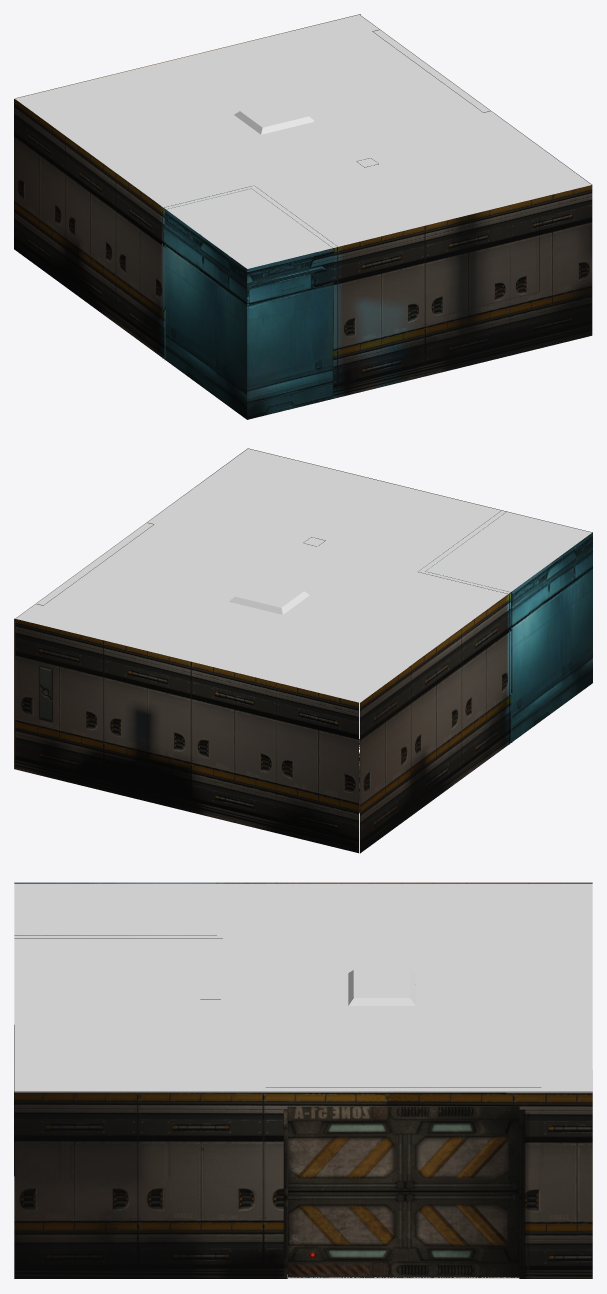
The model's file is RoomSceneA9.FBX.
3 renders of one model, top to bottom at view 1: azimuth 30°, elevation 25°; view 2: azimuth 150°, elevation 25°; view 3: azimuth 270°, elevation 25°, orthographic. The views are drawn at different scales.
Parts seen in each view (by area): view 1: Room_MainWalls, Garage_Ceilling; view 2: Room_MainWalls, Garage_Ceilling; view 3: Garage_Ceilling, Room_MainWalls, Room_Floor.
Boxes of the visible parts, x1,y1,x2,y2 form: Room_MainWalls: (14, 14, 592, 419); Garage_Ceilling: (15, 14, 592, 268); Room_MainWalls: (14, 448, 592, 853); Garage_Ceilling: (15, 448, 591, 702); Garage_Ceilling: (14, 883, 592, 1092); Room_MainWalls: (14, 882, 592, 1278); Room_Floor: (287, 1070, 592, 1278).
Bounding box in the file's own units: 290 × 125 × 332.
